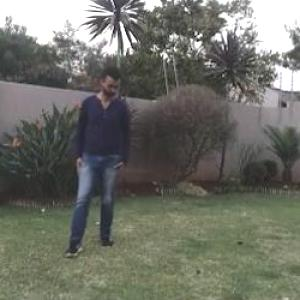follow: (69, 60, 130, 253)
